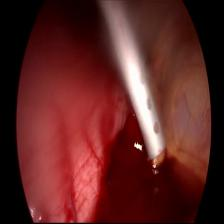Irrigator: (126, 46, 170, 161)
